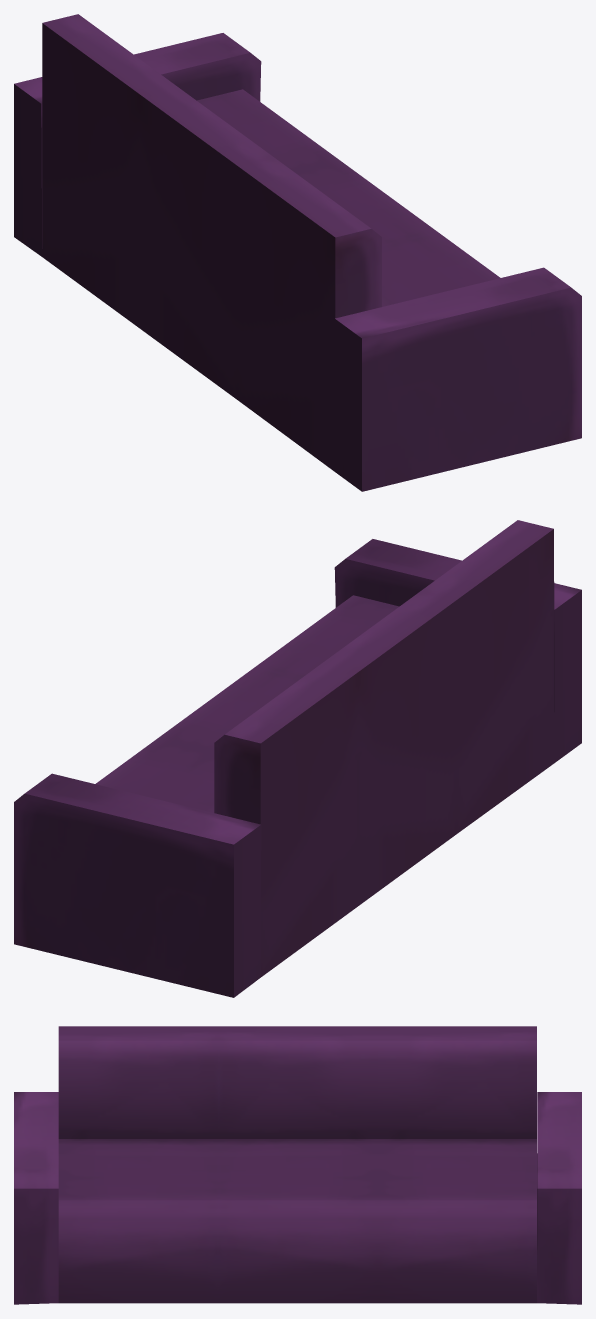
File: Pri_Urb_Couch.fbx
3 views of the same model, one above another, from view 1: azimuth 30°, elevation 25°; view 2: azimuth 150°, elevation 25°; view 3: azimuth 270°, elevation 25° (orthographic). The views are drawn at different scales.
Visible parts, largest first — view 1: Pri_Urb_Couch; view 2: Pri_Urb_Couch; view 3: Pri_Urb_Couch.
Boxes of the visible parts, left/top/right/bottom form: Pri_Urb_Couch: left=14, top=14, right=581, bottom=491; Pri_Urb_Couch: left=14, top=520, right=581, bottom=997; Pri_Urb_Couch: left=14, top=1026, right=581, bottom=1304.
Bounding box in the file's own units: 168 × 170 × 459.
